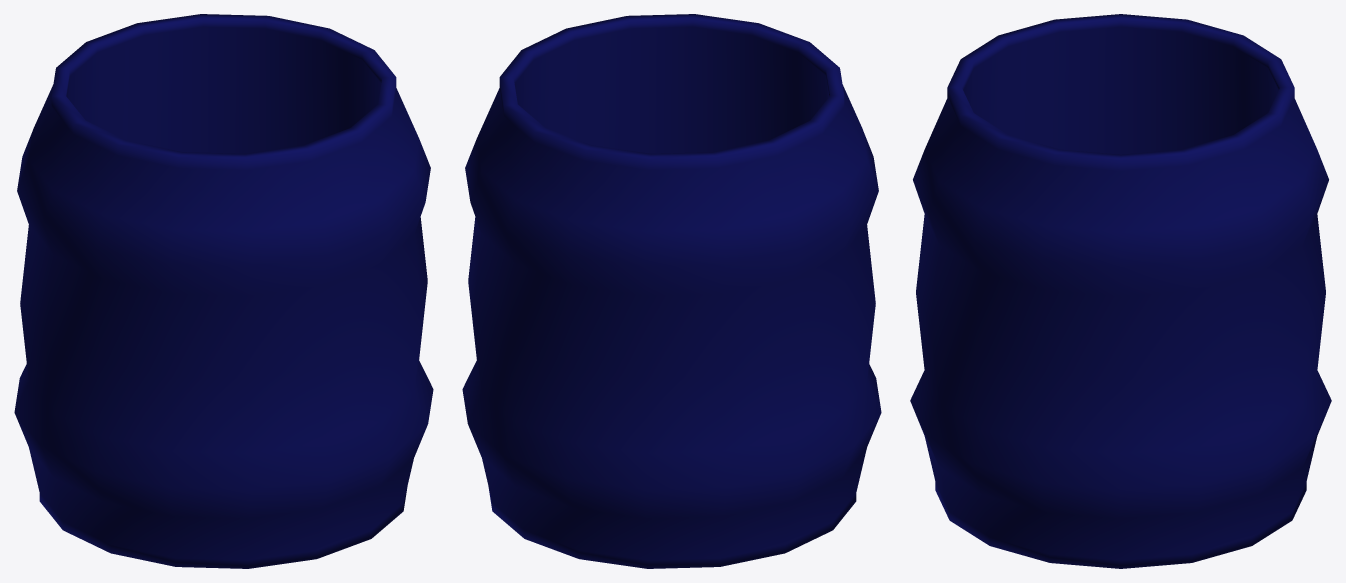
The model's file is MESH_PROP_Tambor_de_Lixo.fbx.
The picture shows the model from 3 angles, left to right: view 1: azimuth 30°, elevation 25°; view 2: azimuth 150°, elevation 25°; view 3: azimuth 270°, elevation 25°; orthographic projection.
Visible parts, largest first — view 1: Tambor_de_Lixo; view 2: Tambor_de_Lixo; view 3: Tambor_de_Lixo.
Boxes of the visible parts, x1,y1,x2,y2 form: Tambor_de_Lixo: [14, 14, 433, 568]; Tambor_de_Lixo: [462, 14, 881, 568]; Tambor_de_Lixo: [910, 14, 1331, 568].
Bounding box in the file's own units: 110 × 116 × 110.
